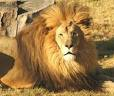lion: (3, 9, 98, 88)
